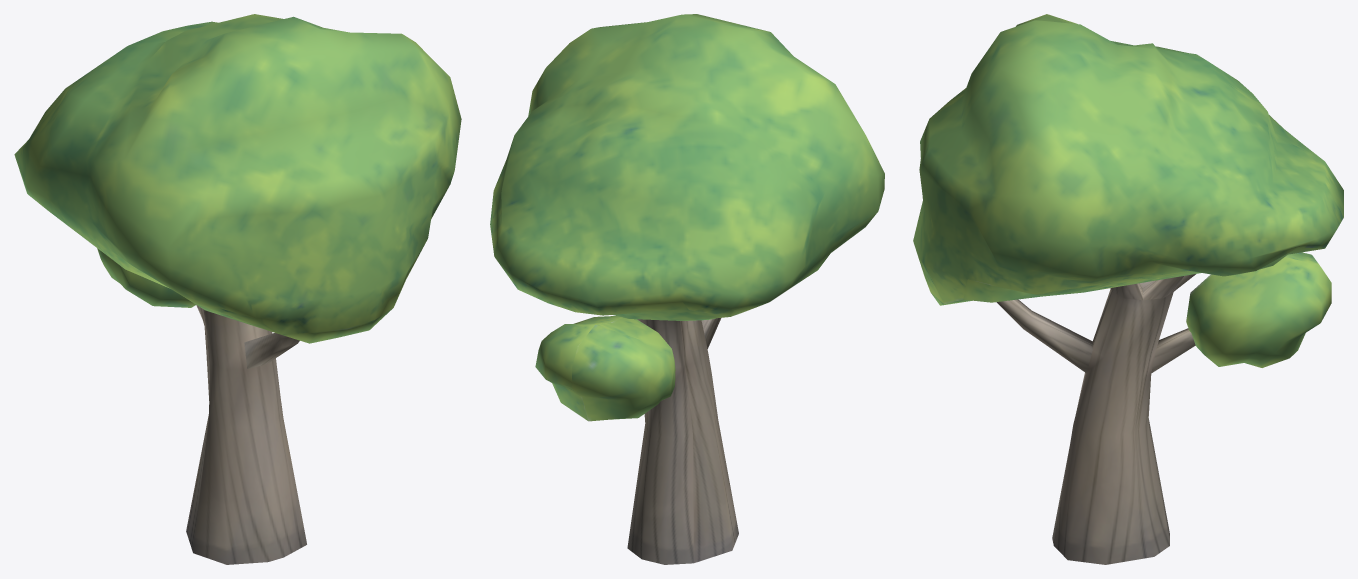
The model's file is Tree_anim.glb.
The picture shows the model from 3 angles, left to right: view 1: azimuth 30°, elevation 25°; view 2: azimuth 150°, elevation 25°; view 3: azimuth 270°, elevation 25°; orthographic projection. The views are drawn at different scales.
Visible parts, largest first — view 1: Tree_base.002, Tree.01, Tree_base.003; view 2: Tree_base.002, Tree.01, Tree_base.003; view 3: Tree_base.002, Tree.01, Tree_base.003.
Part boxes in pixels (x1=…): Tree_base.002: x1=14, y1=14, x2=461, y2=343; Tree.01: x1=186, y1=305, x2=306, y2=564; Tree_base.003: x1=97, y1=248, x2=195, y2=307; Tree_base.002: x1=490, y1=14, x2=884, y2=320; Tree.01: x1=627, y1=317, x2=738, y2=564; Tree_base.003: x1=535, y1=316, x2=675, y2=421; Tree_base.002: x1=913, y1=14, x2=1343, y2=305; Tree.01: x1=996, y1=274, x2=1195, y2=564; Tree_base.003: x1=1186, y1=252, x2=1331, y2=367.
Bounding box in the file's own units: 3.2 × 4.6 × 3.57.
2 materials, 2 textured.
